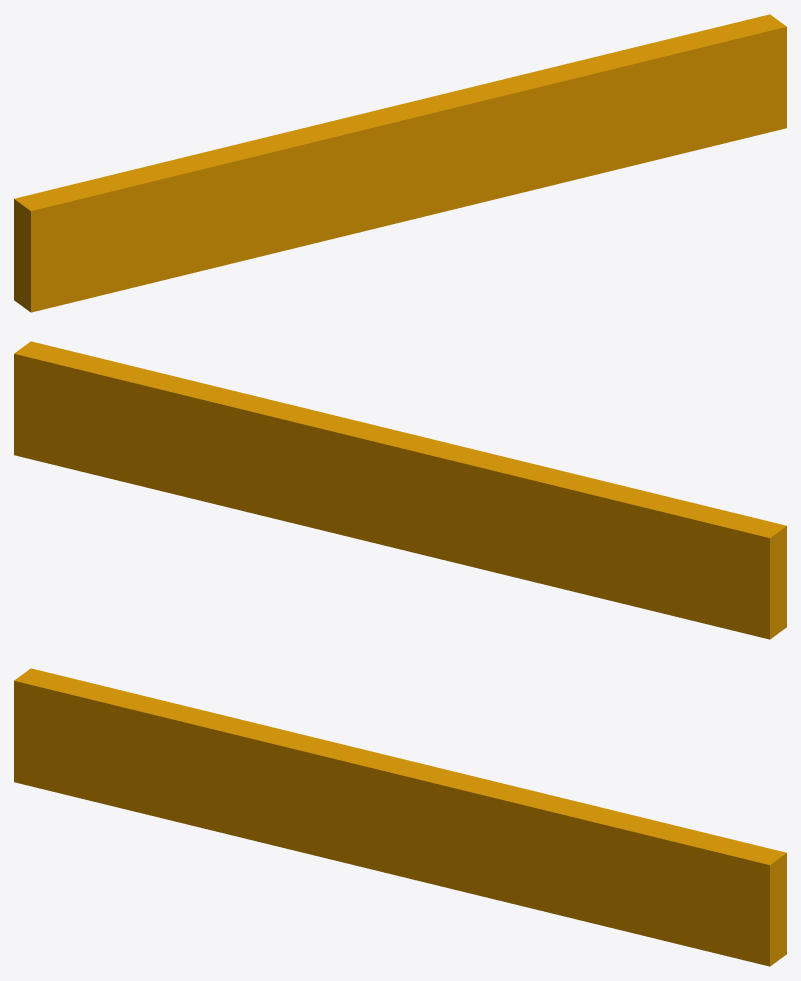
Rendered from Frieze_03.fbx.
3 views of the same model, one above another, from view 1: azimuth 30°, elevation 25°; view 2: azimuth 150°, elevation 25°; view 3: azimuth 330°, elevation 25° (orthographic).
Visible parts, largest first — view 1: Frieze_03; view 2: Frieze_03; view 3: Frieze_03.
Part boxes in pixels (box(x1,y1,x2,y2)): Frieze_03: box(14, 14, 786, 312); Frieze_03: box(14, 341, 786, 639); Frieze_03: box(14, 668, 786, 966).
Bounding box in the file's own units: 414 × 53.14 × 16.11.
